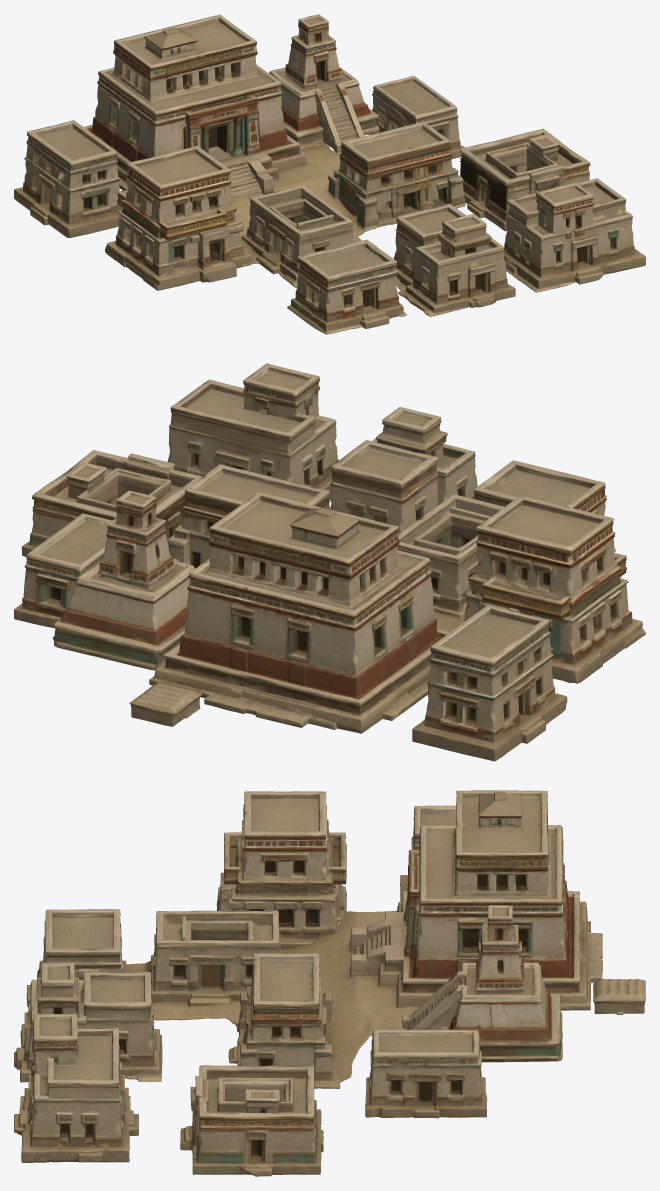
Rendered from Enlightenment Village (Mesoamerican).fbx.
The picture shows the model from 3 angles, top to bottom: view 1: azimuth 30°, elevation 25°; view 2: azimuth 150°, elevation 25°; view 3: azimuth 270°, elevation 25°; orthographic projection. The views are drawn at different scales.
Parts seen in each view (by area): view 1: tripo_node_5a688149; view 2: tripo_node_5a688149; view 3: tripo_node_5a688149.
Part boxes in pixels (left/top/right/bottom): tripo_node_5a688149: left=14, top=14, right=645, bottom=334; tripo_node_5a688149: left=14, top=363, right=645, bottom=761; tripo_node_5a688149: left=14, top=790, right=645, bottom=1176.
Bounding box in the file's own units: 1 × 0.3422 × 0.9807.
